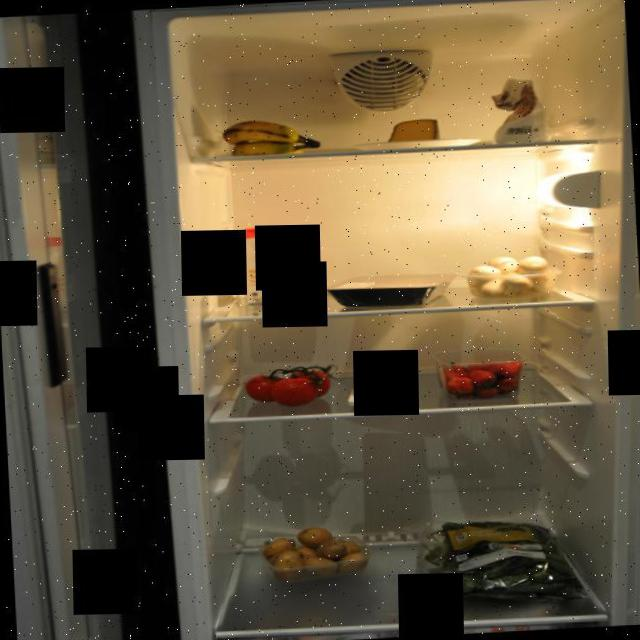Champiñones: (466, 250, 556, 295)
Huevos: (347, 361, 422, 406)
Patata: (256, 522, 368, 578)
Plátano: (220, 112, 324, 160)
Queso: (384, 114, 444, 146)
Tomate: (242, 363, 340, 412)
